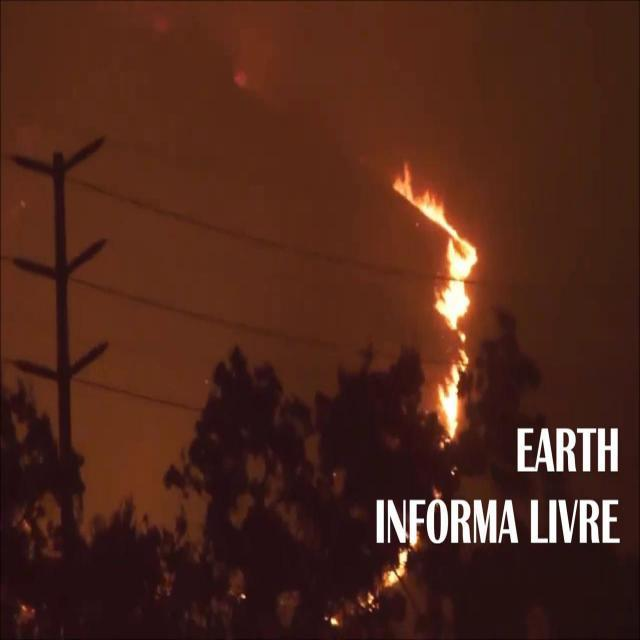Fire: (397, 162, 479, 446), (381, 548, 412, 590), (358, 594, 378, 614)
